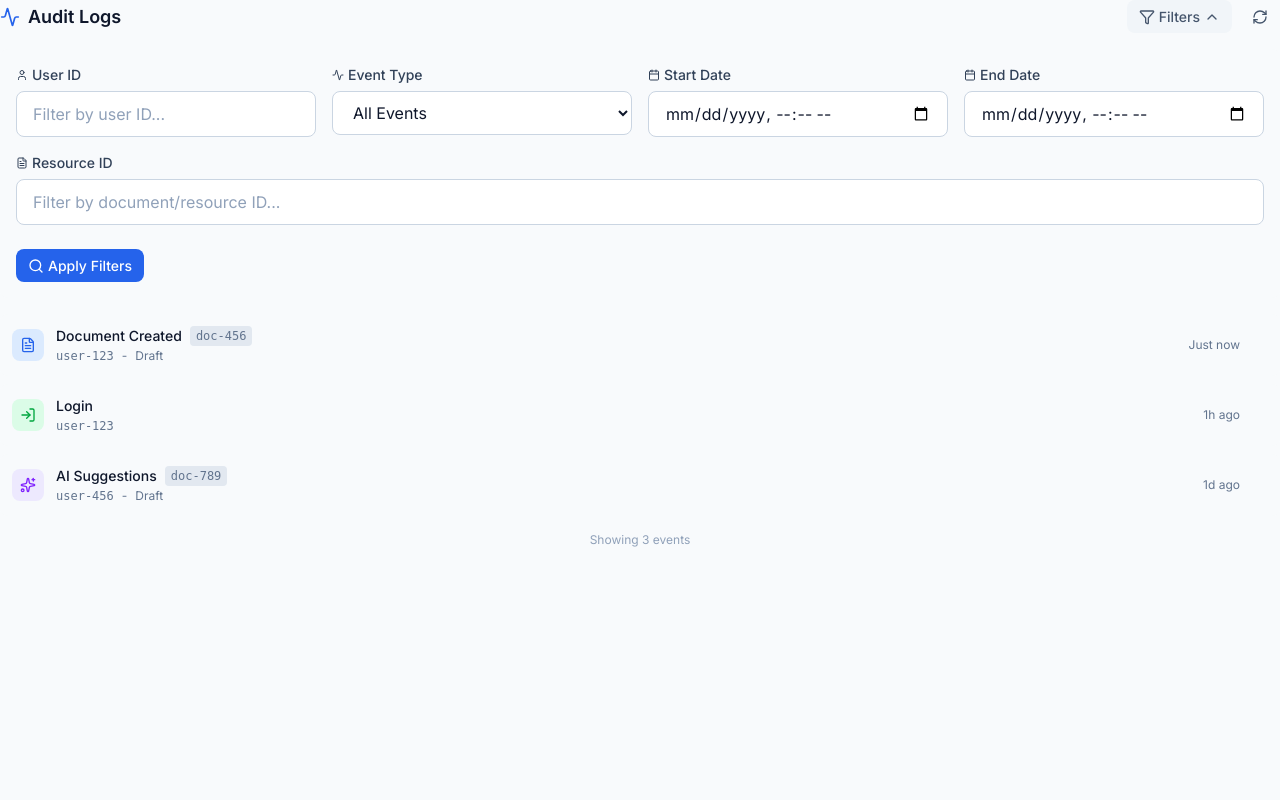
Test: AuditLogViewer › Event Detail Modal › should open modal when log is clicked
Click the element showing "Document Created doc-456 user-123 - draft Just now": {"x": 640, "y": 345} left=0, top=314, right=1279, bottom=376
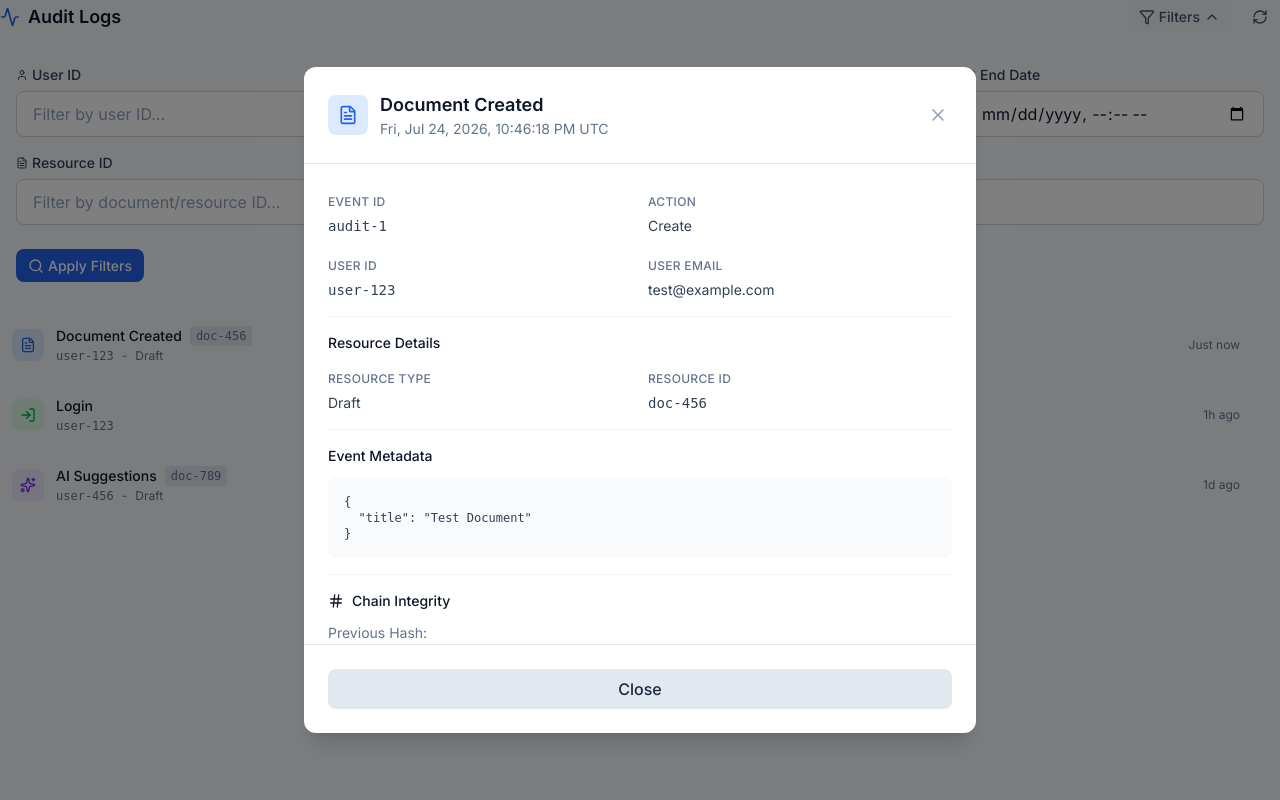
Now the text "Event ID" is shown, box left=328, top=194, right=385, bottom=209
